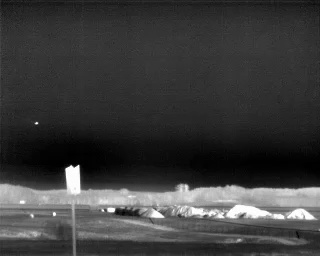BIRD: (33, 119, 40, 127)
